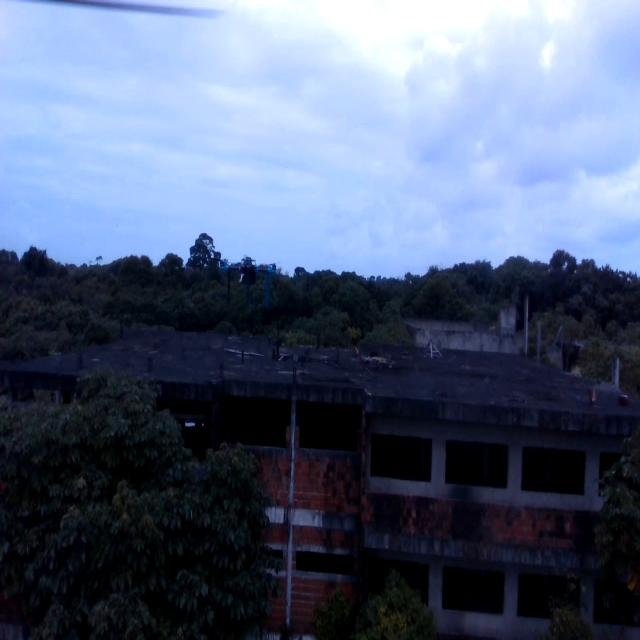-uav-: (217, 255, 286, 326)
